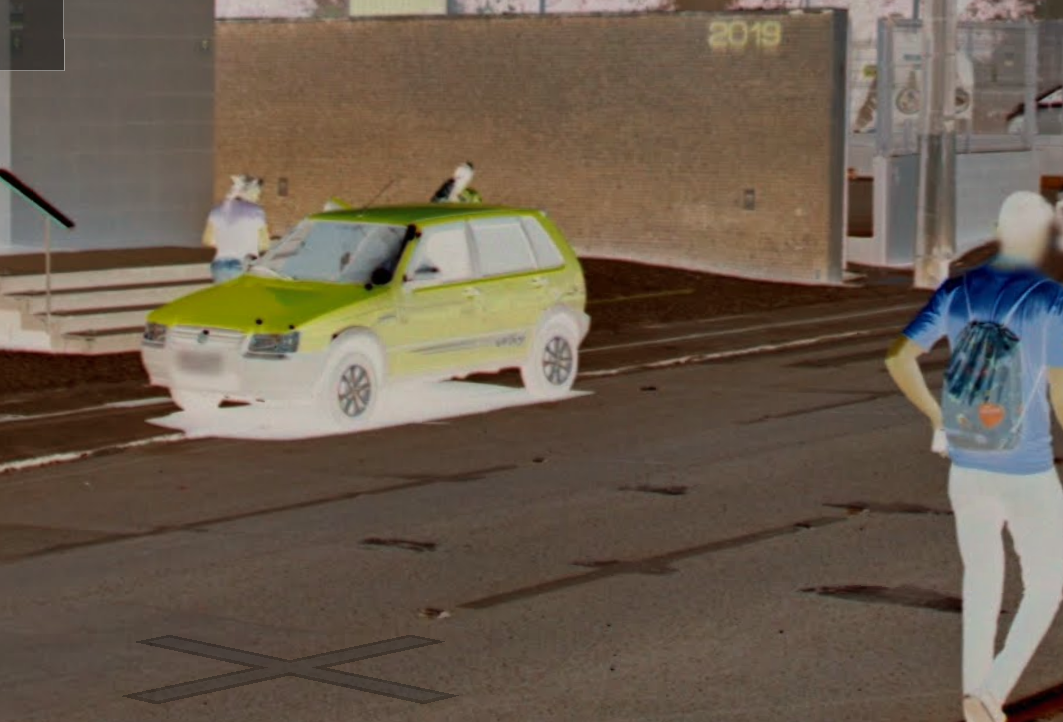car: (134, 177, 616, 443)
